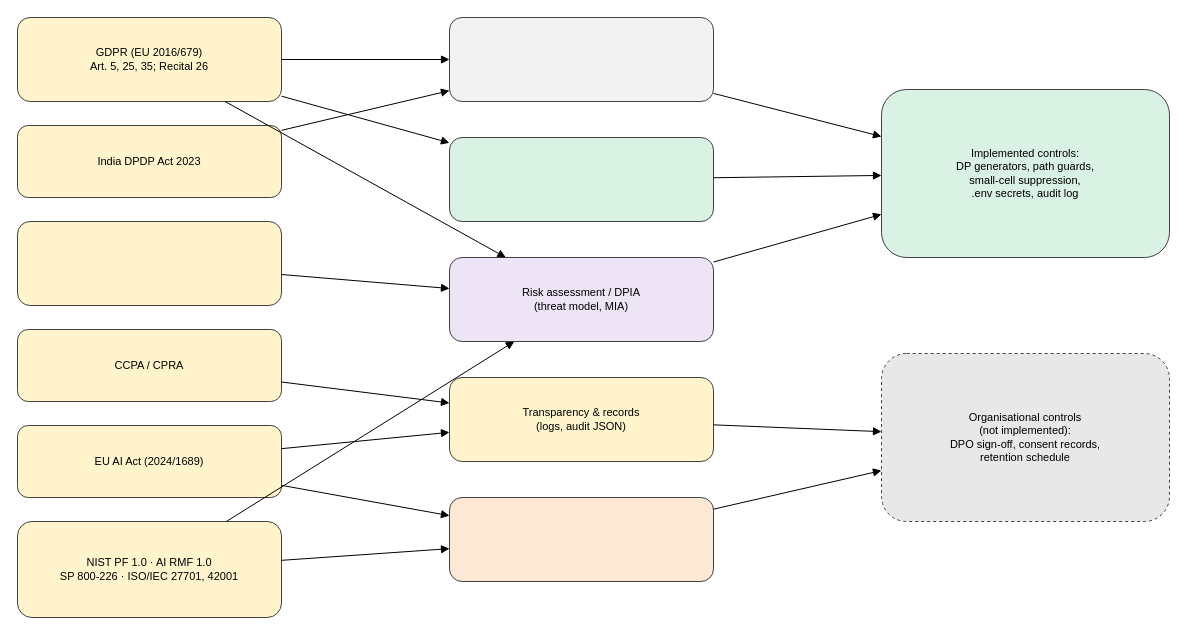
This 1187x635 diagram has some shape labels left out. The shapes that lost their labels are listed below. From the top down, each one's centre as x and y in pixels, then its label:
the point at 581,59: Data minimisation & purpose limitation
the point at 581,179: Privacy by design (DP at generation)
the point at 149,263: HIPAA de-identification (45 CFR 164.514)
the point at 581,539: Human oversight of LLM explanations
